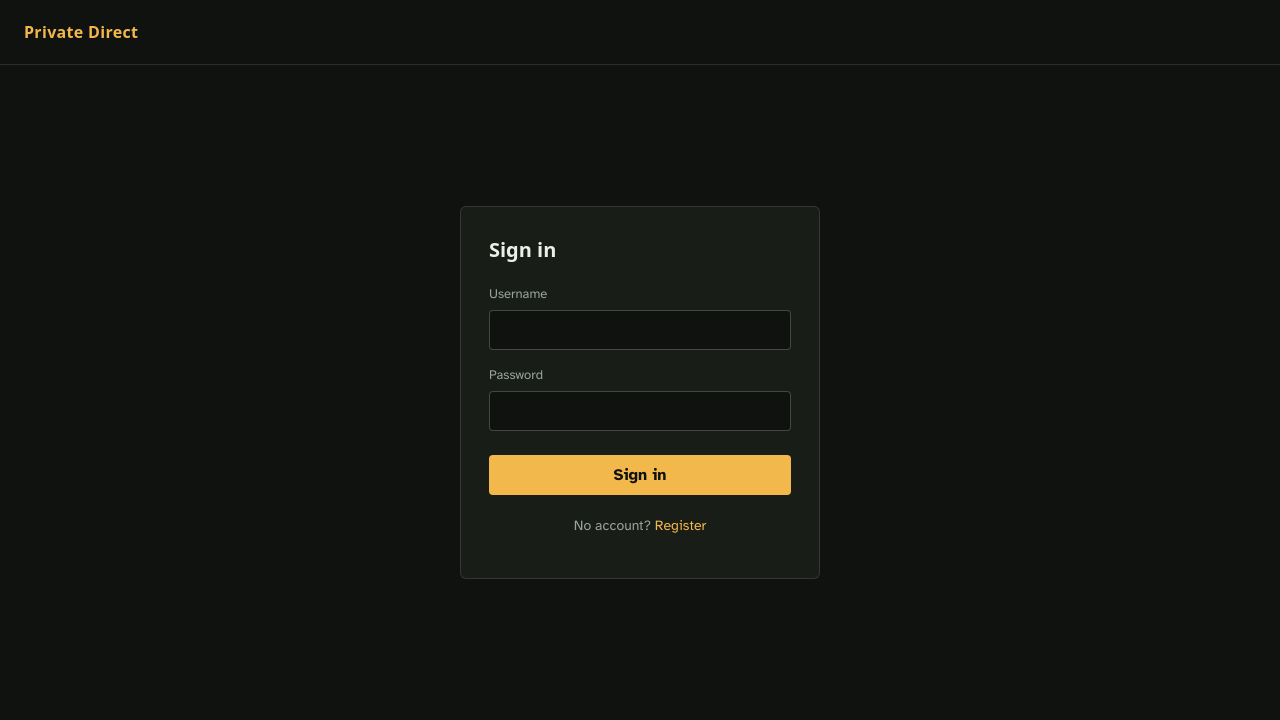
Test: login flow › shows a generic error without disclosing the username on bad credentials
Check: the heading "Sign in" is shown, box x1=489 y1=236 x2=556 y2=263
Type "ghost" into the field labelled "Username". click: [640, 330]
box: x1=489 y1=310 x2=791 y2=350
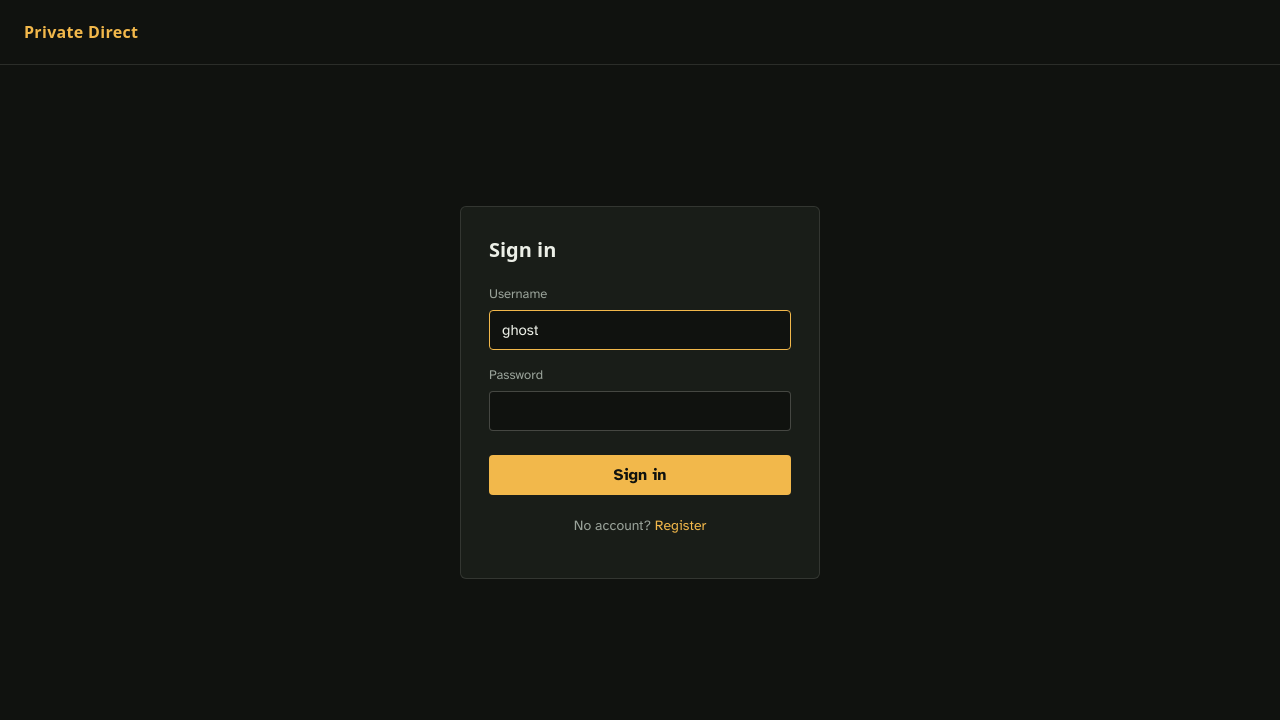
Type "wrong-password" into the password field labelled "Password". click: [640, 411]
box: x1=489 y1=391 x2=791 y2=431
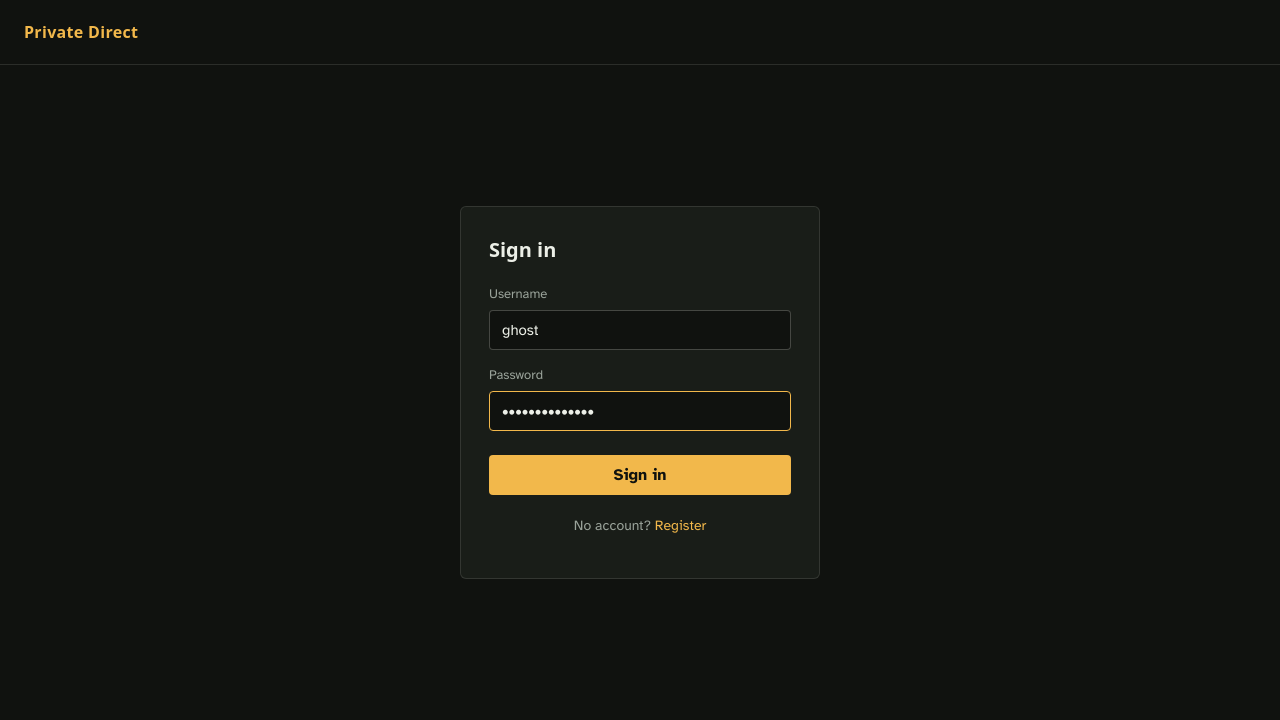
Click the button "Sign in". click: [640, 475]
box: x1=489 y1=455 x2=791 y2=495
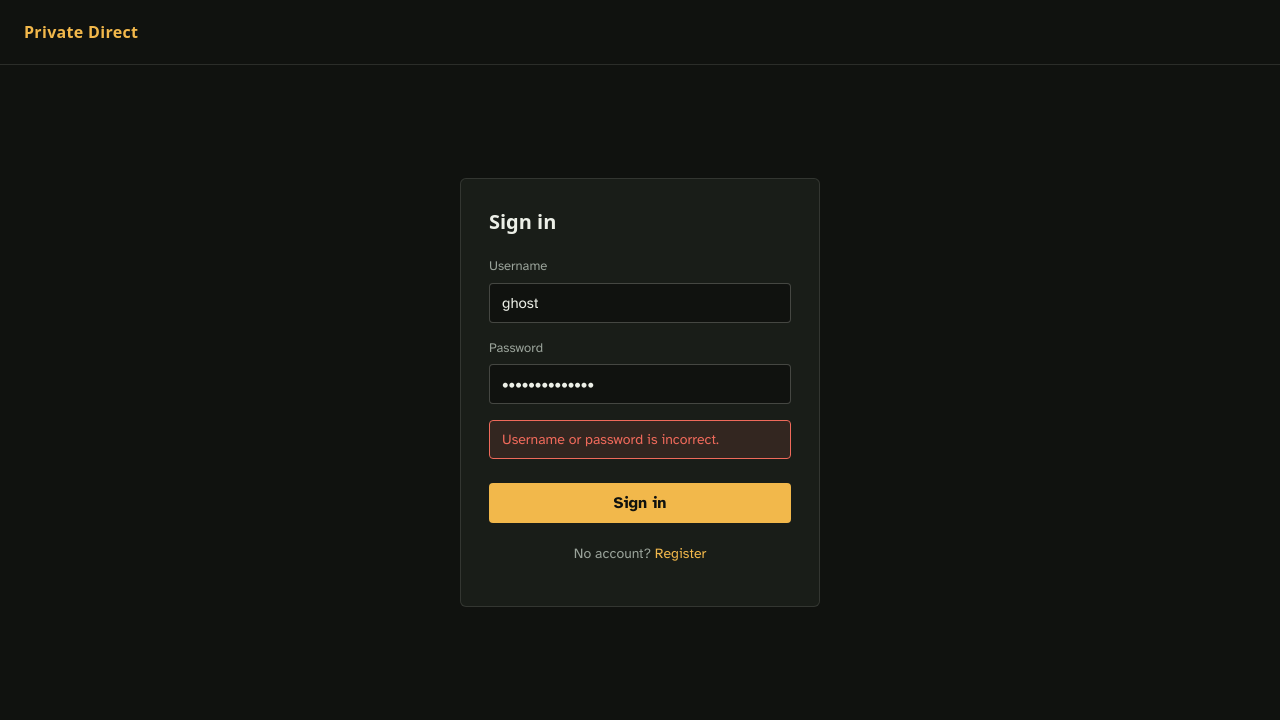
Check: the text "Username or password is incorrect." is shown, box x1=489 y1=420 x2=791 y2=459
